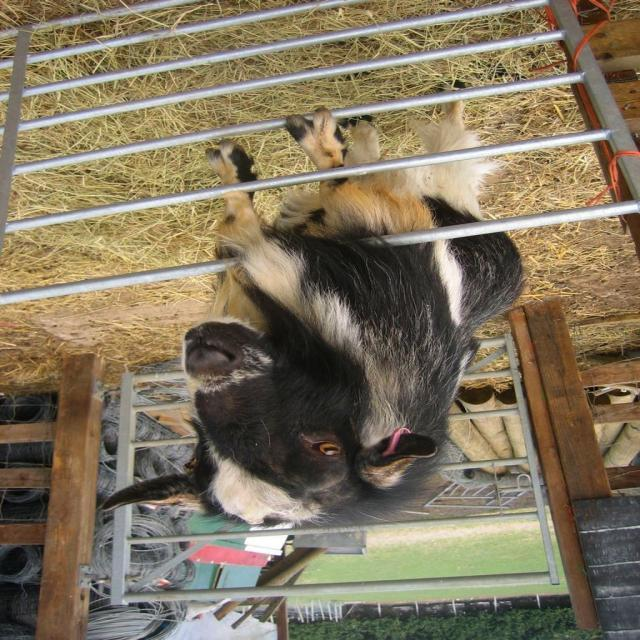Goat: (100, 81, 527, 532)
